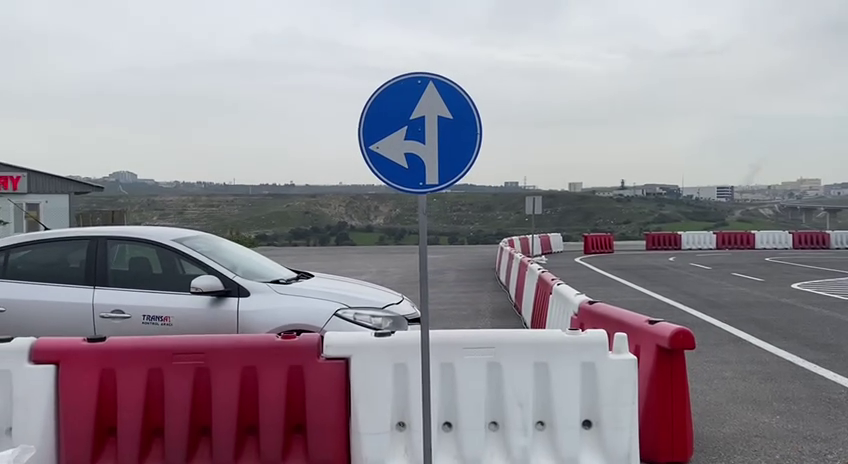forwardAndLeft: (355, 69, 484, 196)
